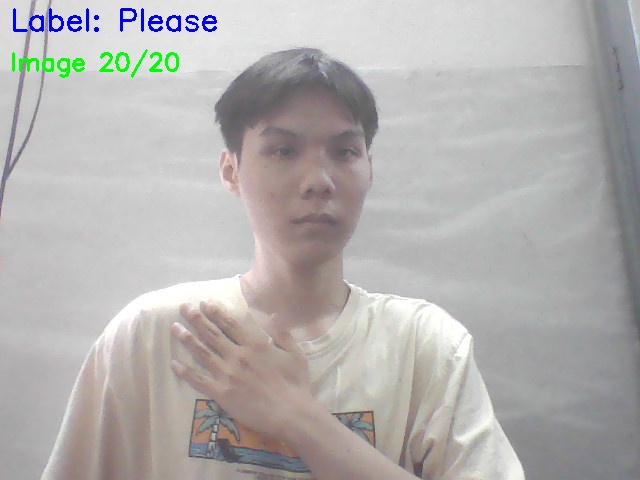Please: (152, 286, 350, 451)
